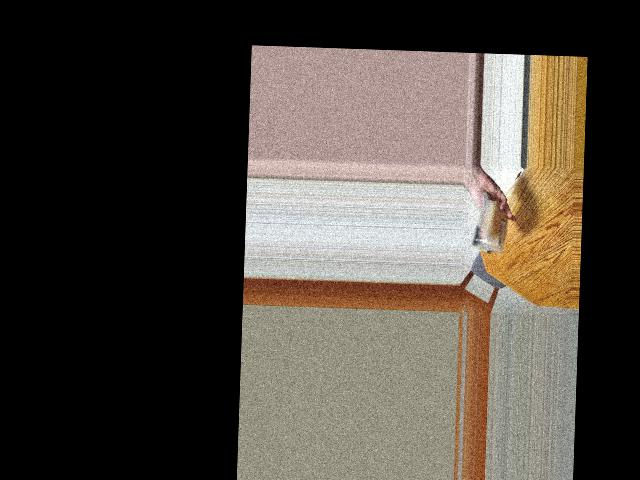cheese: (475, 202, 507, 249)
